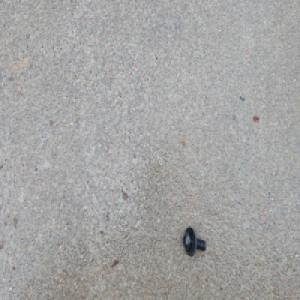BoltWasher: (181, 226, 205, 258)
